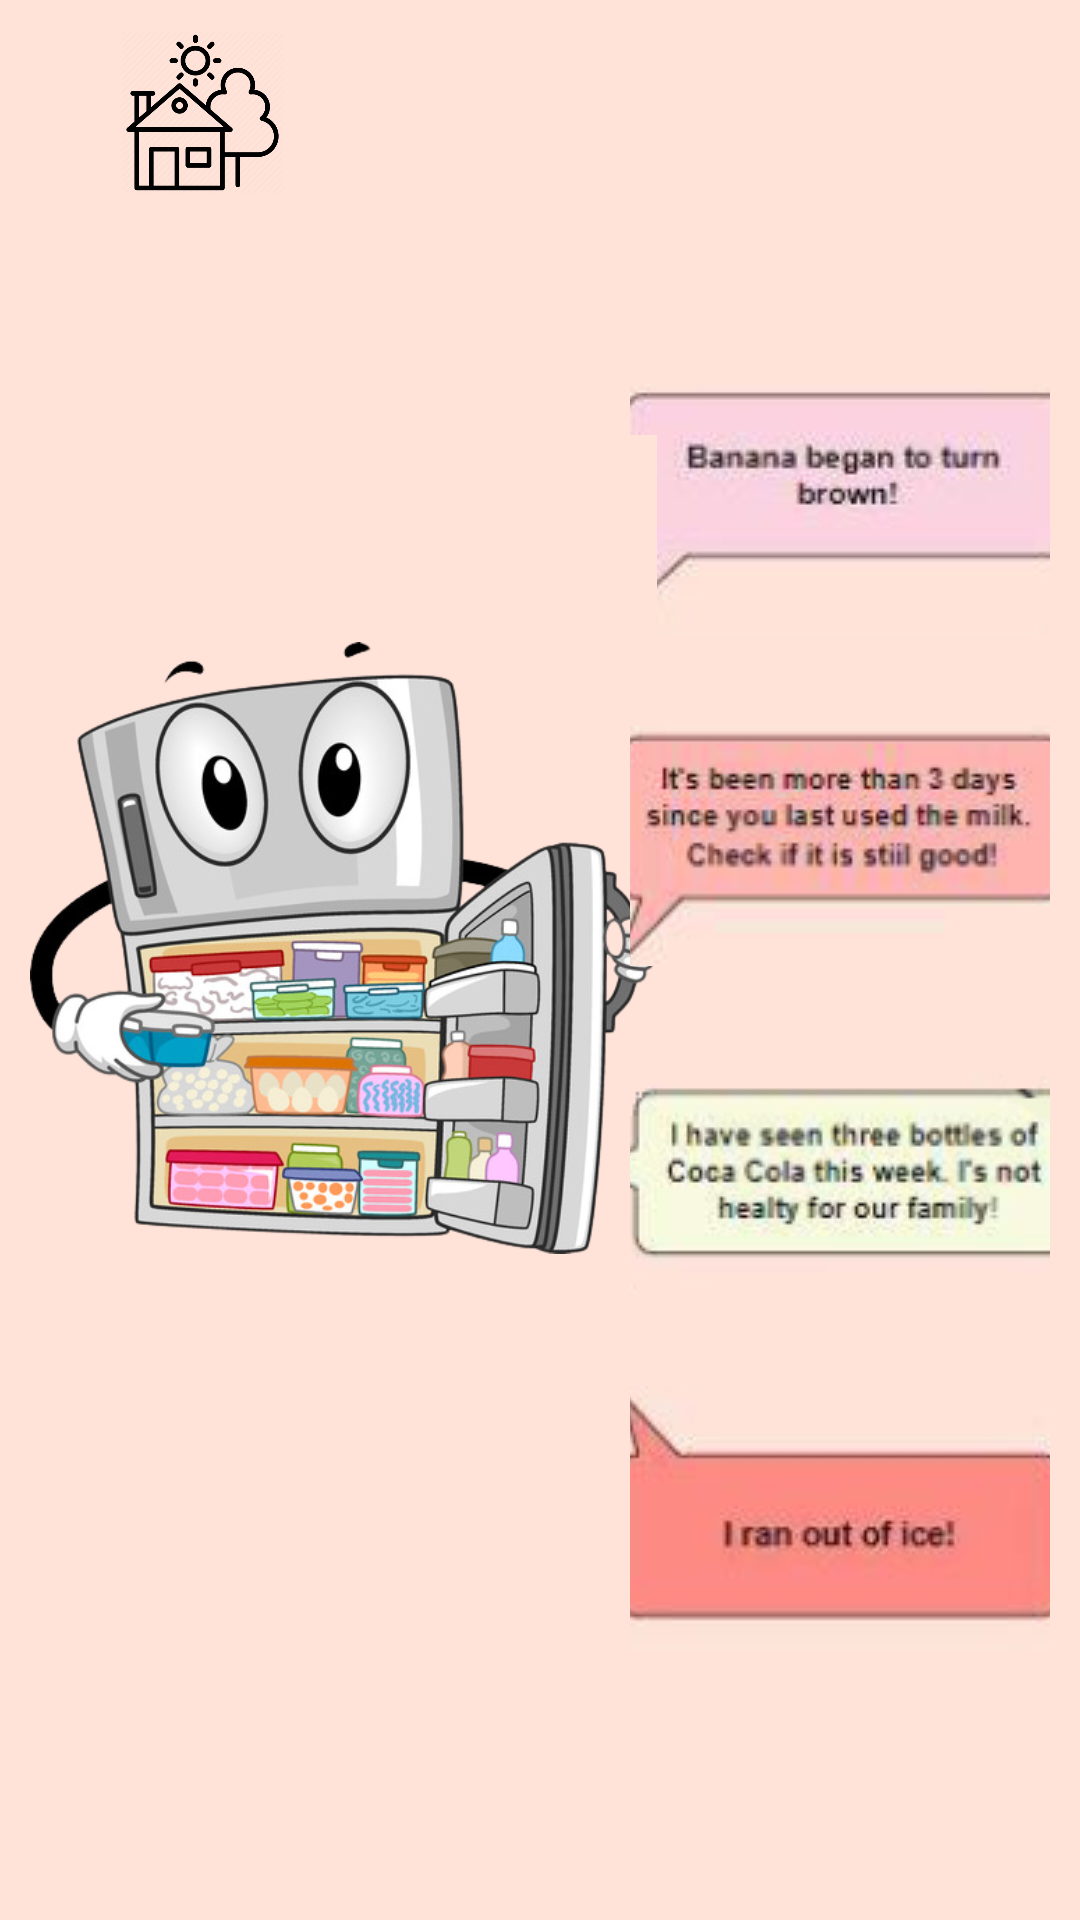

Point at icon controls on the screen. Image size 1080 x 1920, points as (x,y).
house: (202,112)
